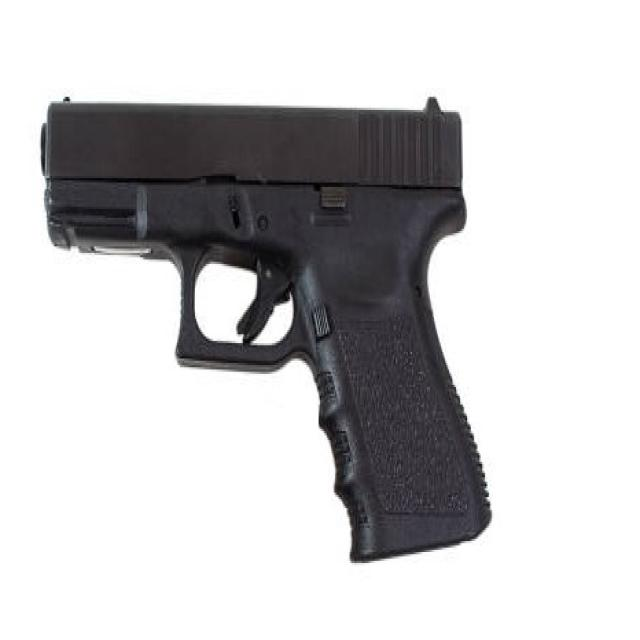pistol: (38, 73, 503, 578)
